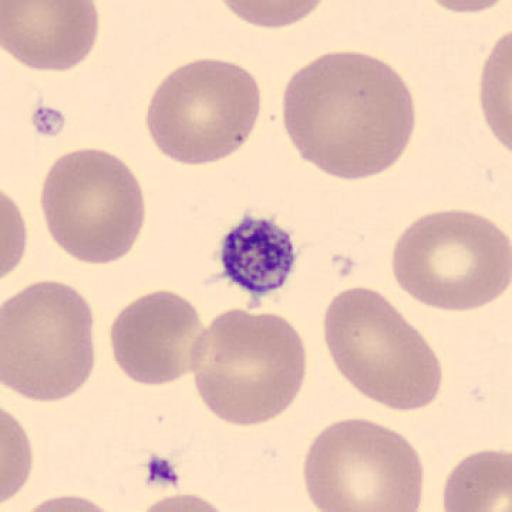Platelet: (214, 212, 301, 296)
RBC: (281, 50, 416, 183), (322, 284, 445, 414), (190, 308, 308, 428), (38, 145, 146, 267), (390, 206, 512, 314), (144, 56, 262, 166), (302, 414, 425, 512), (2, 278, 96, 402), (109, 289, 205, 387), (1, 0, 100, 73), (441, 447, 512, 512), (478, 29, 512, 156), (218, 0, 328, 30), (0, 407, 33, 507), (0, 189, 28, 282), (130, 491, 244, 512), (19, 492, 123, 512), (423, 0, 507, 14)
